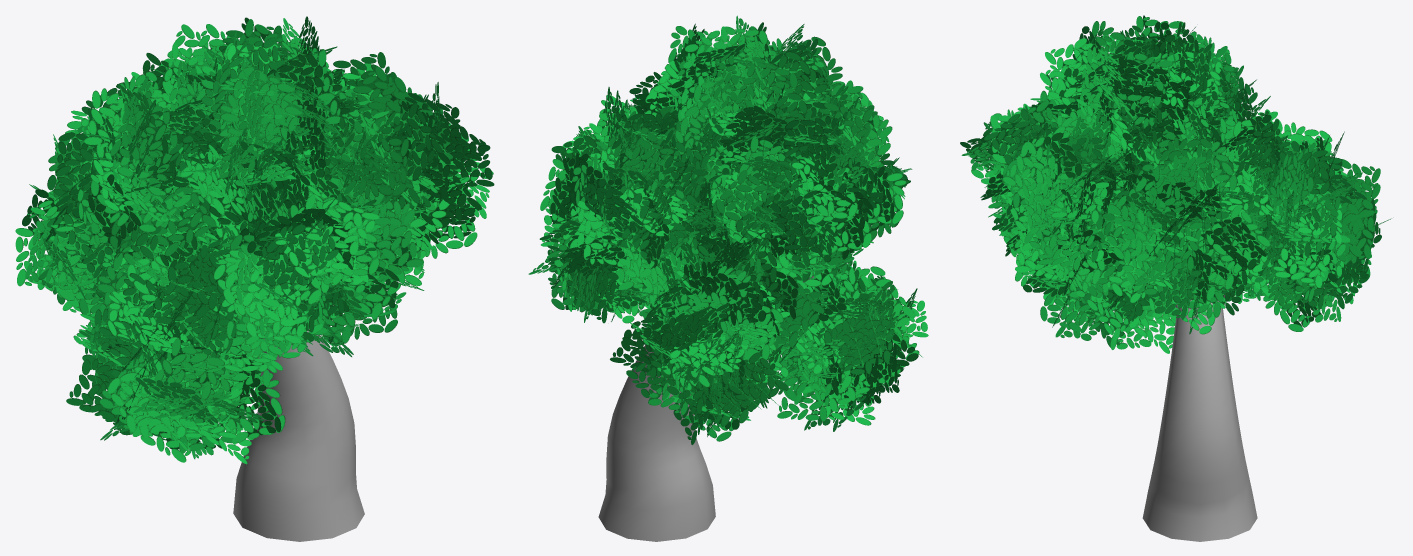
The model's file is Tree1.fbx.
3 renders of one model, left to right at view 1: azimuth 30°, elevation 25°; view 2: azimuth 150°, elevation 25°; view 3: azimuth 270°, elevation 25°, orthographic. The views are drawn at different scales.
Visible parts, largest first — view 1: Tree1; view 2: Tree1; view 3: Tree1.
Part boxes in pixels (x1=…): Tree1: x1=15, y1=16, x2=494, y2=541; Tree1: x1=528, y1=15, x2=928, y2=541; Tree1: x1=960, y1=15, x2=1391, y2=541.
Bounding box in the file's own units: 36.37 × 46.81 × 41.32.
